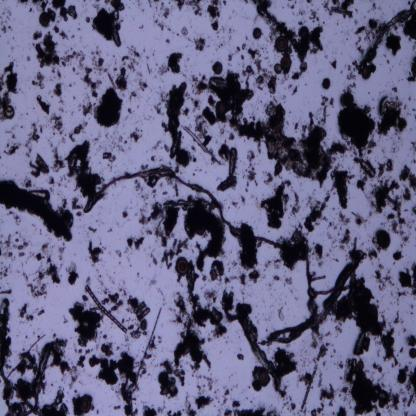Background material: (190, 76, 334, 184), (336, 278, 400, 367), (0, 180, 74, 244), (253, 0, 314, 65), (340, 355, 401, 413), (169, 295, 213, 375), (185, 205, 224, 271), (373, 178, 416, 236), (296, 341, 328, 412), (336, 106, 378, 158), (134, 304, 164, 375), (164, 80, 188, 160), (67, 141, 101, 195), (183, 121, 222, 164), (0, 296, 14, 414), (377, 91, 411, 137), (94, 1, 126, 48), (262, 180, 290, 231), (242, 59, 279, 94), (209, 291, 237, 337), (70, 302, 100, 343), (279, 230, 309, 271), (132, 175, 154, 230), (92, 88, 122, 128), (304, 195, 336, 231), (216, 144, 238, 194), (238, 222, 258, 271), (35, 32, 61, 69), (113, 345, 138, 383), (160, 238, 190, 269), (151, 208, 179, 238), (13, 341, 37, 374), (373, 262, 396, 296), (0, 63, 19, 103), (332, 170, 351, 210), (293, 2, 323, 27), (326, 210, 352, 238), (22, 270, 48, 298), (148, 1, 170, 34), (83, 65, 102, 99), (245, 150, 261, 189), (119, 43, 141, 71), (119, 384, 139, 414), (396, 262, 416, 292), (42, 390, 68, 413), (28, 153, 50, 180), (103, 129, 127, 153), (347, 55, 362, 93), (220, 402, 267, 414), (60, 49, 86, 70), (127, 298, 153, 319), (328, 1, 358, 18), (174, 0, 202, 18), (86, 240, 103, 269), (235, 43, 262, 61), (25, 124, 39, 158), (68, 121, 90, 142), (353, 157, 377, 176), (0, 233, 16, 260), (400, 163, 416, 190), (354, 174, 372, 198), (386, 31, 404, 54), (17, 0, 48, 13), (168, 52, 184, 77), (160, 379, 180, 399), (0, 6, 14, 34), (90, 49, 107, 72), (310, 27, 327, 50), (105, 290, 123, 311), (124, 233, 146, 250), (52, 146, 66, 172), (67, 261, 81, 287), (193, 376, 217, 391), (46, 265, 63, 286), (378, 156, 394, 178), (126, 320, 142, 342), (48, 113, 64, 135), (115, 67, 129, 92), (97, 271, 112, 294), (320, 385, 337, 405), (206, 0, 223, 20), (340, 225, 354, 249), (35, 95, 50, 117), (31, 71, 46, 91), (72, 394, 85, 416), (194, 395, 215, 408), (184, 393, 197, 414), (6, 123, 22, 140), (407, 53, 416, 83), (263, 258, 282, 272), (68, 364, 79, 387), (193, 36, 207, 54), (248, 269, 263, 285), (106, 68, 118, 88), (128, 128, 143, 144), (100, 150, 117, 164), (3, 141, 20, 155), (271, 403, 289, 416), (353, 211, 368, 226), (365, 245, 380, 260), (230, 195, 246, 209), (136, 80, 150, 96), (100, 342, 114, 358), (315, 241, 325, 262), (157, 63, 171, 78), (399, 232, 413, 247), (142, 401, 158, 414), (68, 5, 80, 22), (82, 100, 93, 118), (119, 280, 131, 296), (220, 385, 232, 401), (0, 263, 10, 282), (53, 83, 64, 100), (70, 195, 82, 210), (251, 380, 263, 394), (288, 83, 302, 95), (150, 138, 164, 150), (18, 243, 28, 259), (154, 100, 164, 116), (86, 224, 99, 236), (51, 1, 68, 10), (124, 104, 134, 119), (24, 175, 34, 190), (48, 8, 58, 23), (394, 309, 402, 327), (392, 250, 404, 262), (166, 407, 183, 415), (36, 306, 47, 318), (297, 61, 309, 72), (236, 349, 246, 362), (60, 28, 70, 41), (31, 30, 44, 40), (336, 406, 349, 416), (76, 356, 86, 369), (150, 253, 159, 267), (330, 58, 340, 70), (120, 210, 130, 222), (48, 173, 55, 190), (396, 292, 405, 305), (20, 302, 27, 318), (277, 309, 286, 321), (238, 274, 247, 286), (180, 26, 190, 36), (0, 288, 12, 296), (227, 50, 235, 62), (129, 90, 137, 102), (85, 274, 94, 284), (26, 313, 34, 324), (284, 277, 293, 286), (164, 35, 172, 45), (56, 69, 64, 79), (272, 275, 282, 283), (36, 252, 46, 260), (62, 312, 68, 325), (84, 16, 92, 24), (101, 332, 109, 340), (54, 25, 60, 35), (24, 56, 32, 63), (76, 211, 83, 218), (115, 404, 121, 411), (116, 252, 124, 257), (136, 271, 140, 278), (96, 409, 100, 415)
Cellulose filter fibre: (264, 249, 366, 347), (235, 301, 288, 398), (12, 335, 65, 414), (358, 2, 416, 72), (155, 196, 210, 215)
Cotton: (80, 168, 361, 301)
Diatom: (84, 284, 128, 334), (374, 228, 392, 253), (210, 260, 227, 286), (53, 356, 70, 374), (274, 348, 288, 367), (275, 35, 290, 52), (338, 92, 356, 106), (176, 257, 189, 276), (211, 60, 224, 76), (105, 370, 118, 386), (177, 150, 190, 166), (79, 397, 92, 412), (258, 370, 270, 386), (3, 104, 15, 120), (39, 12, 51, 27), (397, 370, 409, 385), (252, 27, 264, 41), (298, 25, 310, 39), (280, 56, 292, 70), (362, 66, 372, 82), (158, 370, 169, 384), (99, 357, 109, 371), (210, 19, 220, 33), (138, 318, 148, 332), (321, 77, 331, 90), (406, 333, 416, 346), (407, 346, 416, 359), (273, 63, 282, 74), (130, 372, 139, 381), (59, 8, 67, 16)
